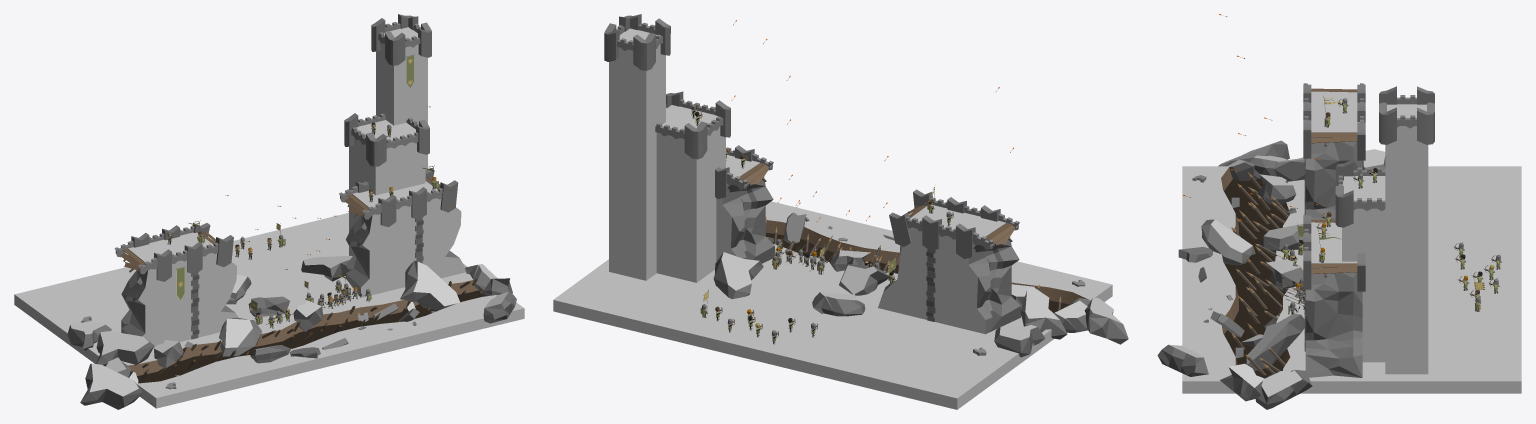
File: Scena_06.fbx
The picture shows the model from 3 angles, left to right: view 1: azimuth 30°, elevation 25°; view 2: azimuth 150°, elevation 25°; view 3: azimuth 270°, elevation 25°; orthographic projection. The views are drawn at different scales.
Visible parts, largest first — view 1: pCube6760, pCube4236, pCube6761, pCube6762, pCube6754, pCube6758, pCube6757, pCube6767, pCube6753, pCube6750, pCube6755, polySurface871 (+12 smaller); view 2: pCube6762, pCube6761, pCube6760, pCube4236, pCube6758, pCube6750, pCube6755, pCube6765, pCube6754, pCube6757, pCube6753, polySurface880 (+9 smaller); view 3: pCube6762, pCube6760, pCube6755, pCube6761, pCube6758, pCube6750, pCube4236, pCube6757, pCube6754, pCube6753, pCube6766, polySurface855 (+14 smaller).
Boxes of the visible parts, x1=… form: pCube6760: x1=114, y1=168, x2=465, y2=348; pCube4236: x1=173, y1=181, x2=426, y2=337; pCube6761: x1=344, y1=113, x2=429, y2=255; pCube6762: x1=371, y1=14, x2=431, y2=170; pCube6754: x1=232, y1=286, x2=401, y2=367; pCube6758: x1=15, y1=267, x2=136, y2=343; pCube6757: x1=88, y1=332, x2=278, y2=397; pCube6767: x1=156, y1=308, x2=524, y2=408; pCube6753: x1=331, y1=263, x2=523, y2=337; pCube6750: x1=225, y1=234, x2=330, y2=310; pCube6755: x1=260, y1=213, x2=348, y2=286; polySurface871: x1=80, y1=363, x2=141, y2=409; pCube6762: x1=604, y1=14, x2=670, y2=280; pCube6761: x1=655, y1=91, x2=730, y2=282; pCube6760: x1=922, y1=197, x2=1021, y2=334; pCube4236: x1=715, y1=145, x2=954, y2=319; pCube6758: x1=823, y1=312, x2=1018, y2=398; pCube6750: x1=688, y1=276, x2=894, y2=365; pCube6755: x1=553, y1=259, x2=765, y2=332; pCube6765: x1=553, y1=300, x2=957, y2=409; pCube6754: x1=766, y1=219, x2=900, y2=303; pCube6757: x1=992, y1=261, x2=1112, y2=334; pCube6753: x1=758, y1=201, x2=842, y2=275; polySurface880: x1=713, y1=252, x2=763, y2=299; pCube6762: x1=1379, y1=86, x2=1434, y2=374; pCube6760: x1=1303, y1=83, x2=1365, y2=377; pCube6755: x1=1352, y1=309, x2=1521, y2=381; pCube6761: x1=1335, y1=159, x2=1385, y2=362; pCube6758: x1=1428, y1=166, x2=1521, y2=237; pCube6750: x1=1428, y1=238, x2=1521, y2=309; pCube4236: x1=1303, y1=116, x2=1365, y2=351; pCube6757: x1=1182, y1=166, x2=1304, y2=250; pCube6754: x1=1182, y1=238, x2=1304, y2=321; pCube6753: x1=1182, y1=309, x2=1351, y2=381; pCube6766: x1=1182, y1=381, x2=1521, y2=393; polySurface855: x1=1246, y1=313, x2=1304, y2=371.
Bounding box in the file's own units: 64.2 × 35.1 × 39.44.
